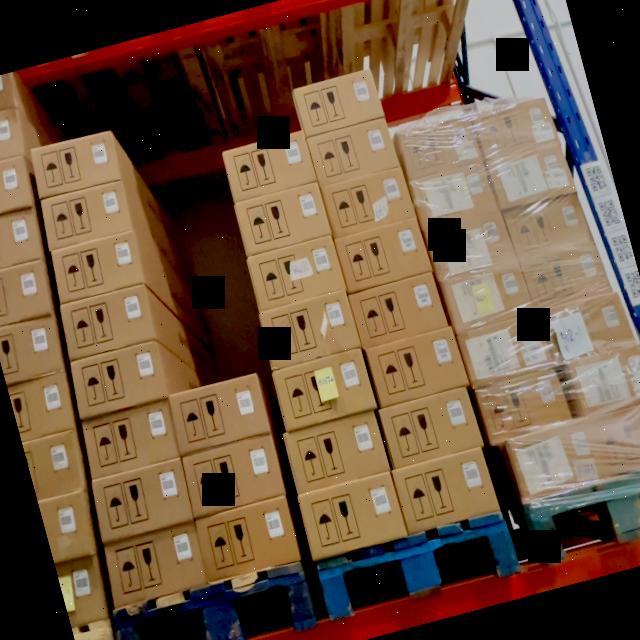box: (506, 394, 640, 500), (297, 468, 407, 562), (392, 445, 502, 537), (90, 456, 196, 546), (192, 497, 301, 584), (283, 405, 388, 494), (270, 343, 376, 428), (181, 433, 287, 518), (105, 524, 206, 606), (166, 375, 272, 453), (258, 288, 358, 368), (366, 326, 466, 405), (348, 269, 446, 349), (380, 388, 480, 466), (244, 236, 346, 310), (220, 129, 318, 204), (234, 182, 333, 256), (70, 341, 166, 417), (81, 402, 178, 477), (58, 285, 158, 357), (321, 163, 414, 240), (424, 203, 516, 280), (476, 367, 568, 443), (48, 230, 145, 301), (484, 134, 574, 210), (456, 308, 550, 380), (38, 178, 134, 248), (502, 192, 592, 266), (336, 220, 428, 290), (308, 117, 397, 188), (29, 130, 122, 195), (441, 260, 531, 327), (294, 69, 382, 136), (408, 158, 495, 222), (567, 339, 640, 413), (522, 250, 608, 312), (397, 113, 481, 175), (546, 295, 630, 356), (472, 96, 556, 156)
